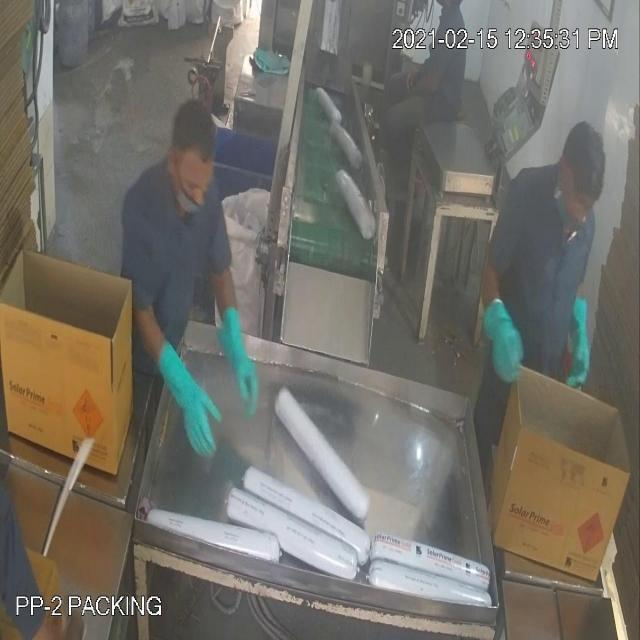Gloves: (36, 98, 581, 398)
